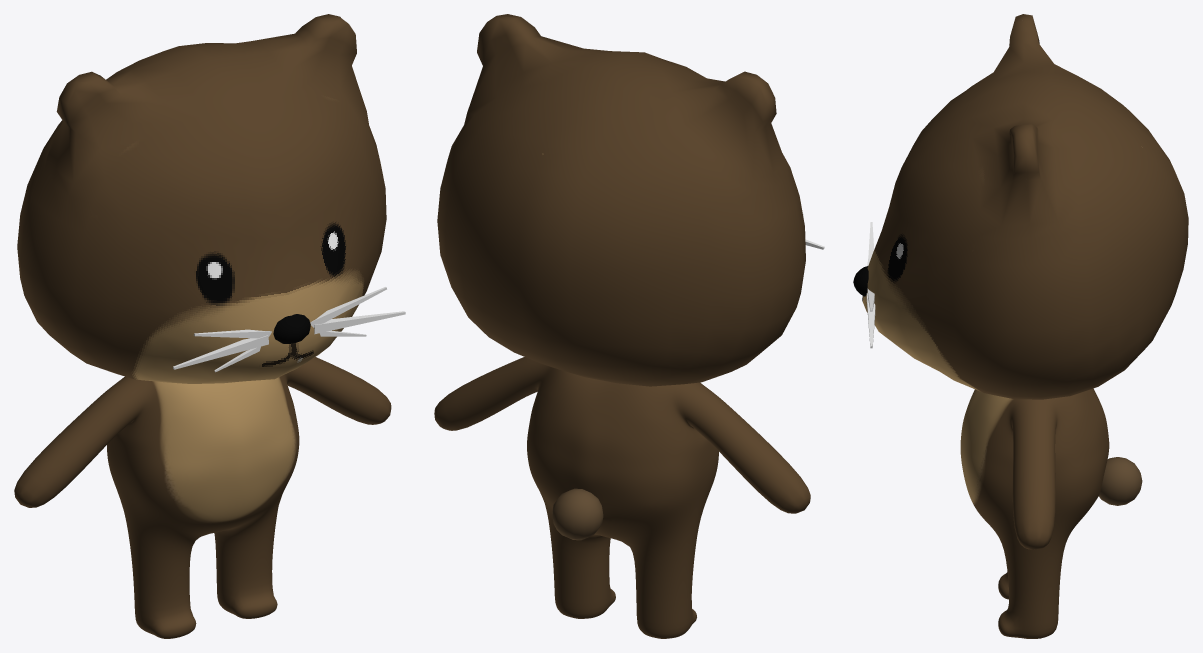
The model's file is Jaber_Otter.glb.
3 renders of one model, left to right at view 1: azimuth 30°, elevation 25°; view 2: azimuth 150°, elevation 25°; view 3: azimuth 270°, elevation 25°, orthographic. The views are drawn at different scales.
Parts seen in each view (by area): view 1: Otterhead.001, Ottertorso.001, Otternose, Whiskers2, Whiskers 5, Whiskers 6; view 2: Otterhead.001, Ottertorso.001, Ottertail.001; view 3: Otterhead.001, Ottertorso.001, Ottertail.001.
Boxes of the visible parts, bbox=[...] form: Otterhead.001: bbox=[17, 14, 386, 383]; Ottertorso.001: bbox=[14, 357, 391, 638]; Otternose: bbox=[273, 314, 310, 343]; Whiskers2: bbox=[173, 335, 268, 369]; Whiskers 5: bbox=[314, 311, 405, 334]; Whiskers 6: bbox=[310, 287, 386, 327]; Otterhead.001: bbox=[437, 14, 805, 386]; Ottertorso.001: bbox=[434, 357, 810, 638]; Ottertail.001: bbox=[552, 488, 603, 540]; Otterhead.001: bbox=[862, 14, 1188, 399]; Ottertorso.001: bbox=[960, 388, 1109, 638]; Ottertail.001: bbox=[1099, 457, 1142, 505].
Bounding box in the file's own units: 2.49 × 3.66 × 2.06.
Materials: 4 (2 with a texture image).
